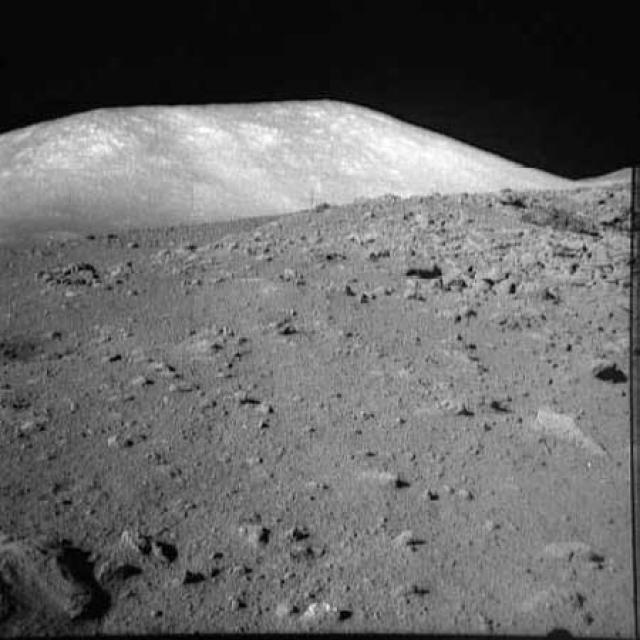crater: (2, 316, 139, 366)
rock: (0, 522, 105, 623), (518, 399, 614, 464), (175, 324, 263, 369), (106, 526, 184, 574), (534, 528, 612, 572), (350, 460, 409, 499), (304, 594, 356, 631), (577, 348, 625, 387), (386, 524, 438, 553), (288, 542, 334, 574), (235, 515, 272, 546), (281, 519, 320, 539)
